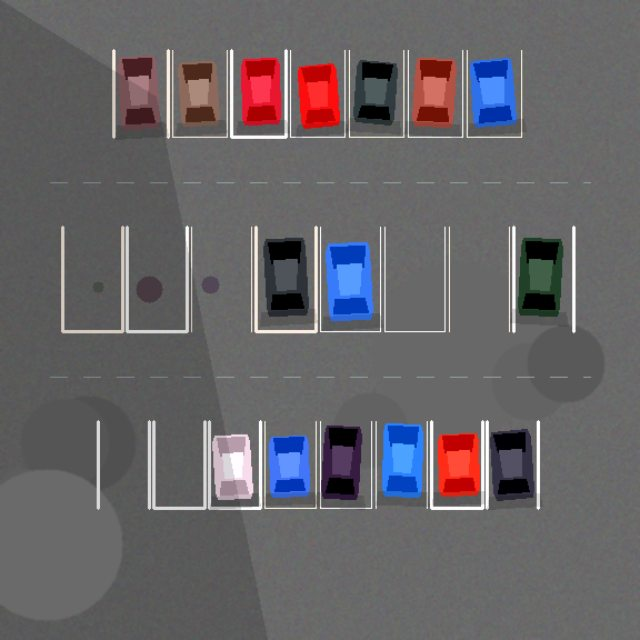space-empty: (62, 227, 122, 331), (127, 227, 187, 331), (191, 227, 251, 331), (384, 227, 444, 331), (449, 227, 509, 331), (98, 421, 149, 508), (153, 421, 204, 508)
space-occupied: (256, 227, 316, 331), (320, 227, 380, 331), (513, 227, 573, 331), (113, 50, 168, 137), (172, 50, 227, 137), (231, 50, 286, 137), (290, 50, 344, 137), (349, 50, 403, 137), (408, 50, 462, 137), (467, 50, 521, 137), (264, 421, 316, 508), (209, 421, 260, 508), (320, 421, 371, 508), (376, 421, 427, 508), (431, 421, 482, 508), (487, 421, 538, 508)
